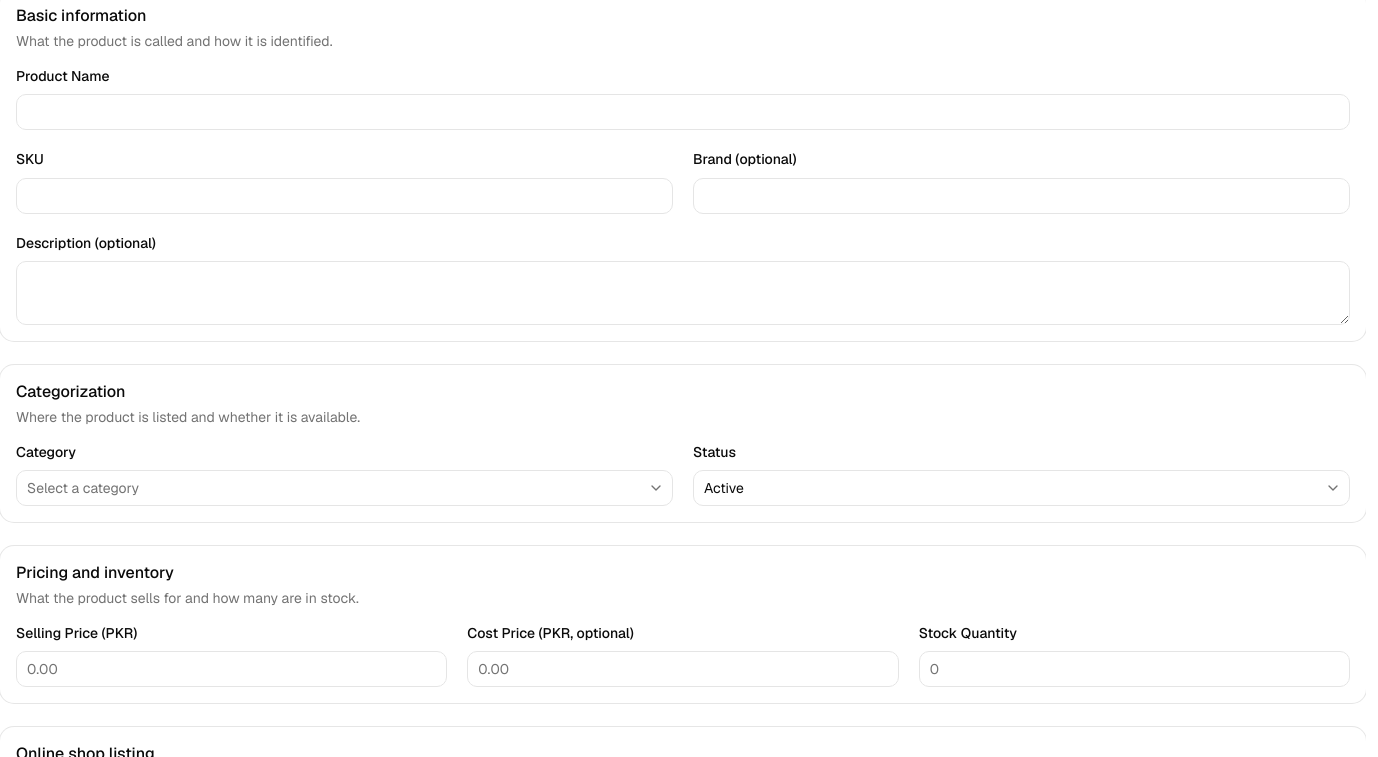
Scenario: ProductForm (server errors) › points a taken SKU out on the SKU field
In the field labelled "Product Name": point(683, 112) [16, 94, 1350, 130], type "  Studio Monitor  "
In the field labelled "SKU": point(344, 196) [16, 178, 673, 214], type "ELC-MON-27"
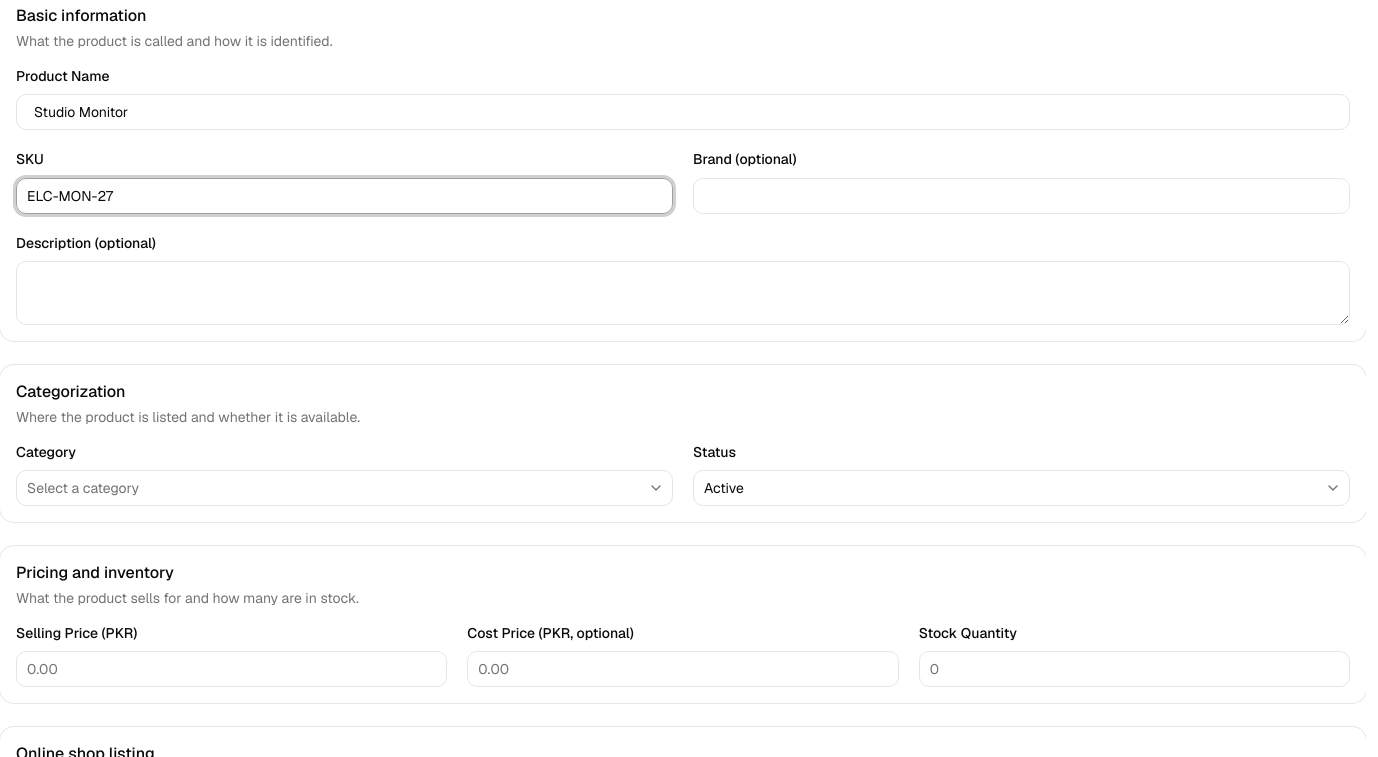
Click the dropdown labelled "category": point(83, 488) [16, 470, 673, 506]
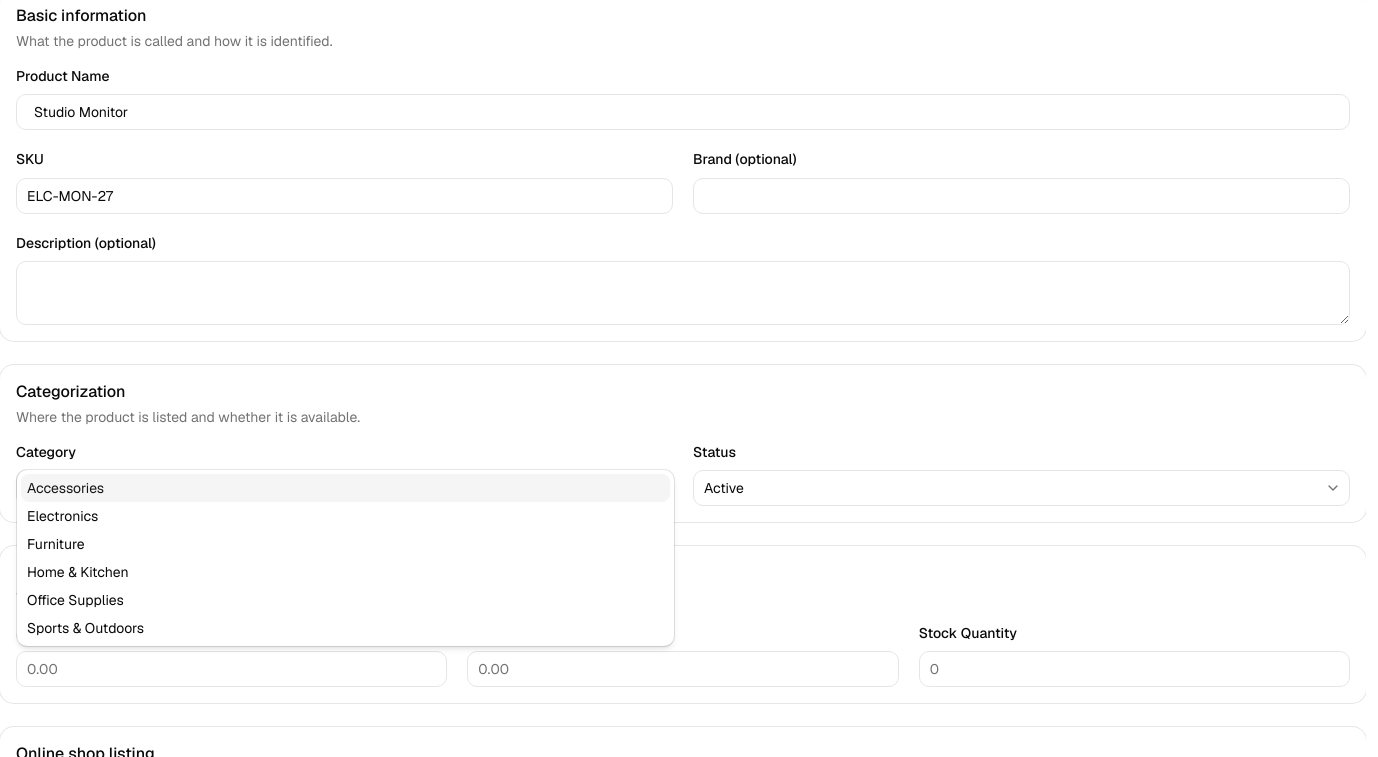
Click the option "Electronics": point(63, 516) [27, 507, 98, 525]
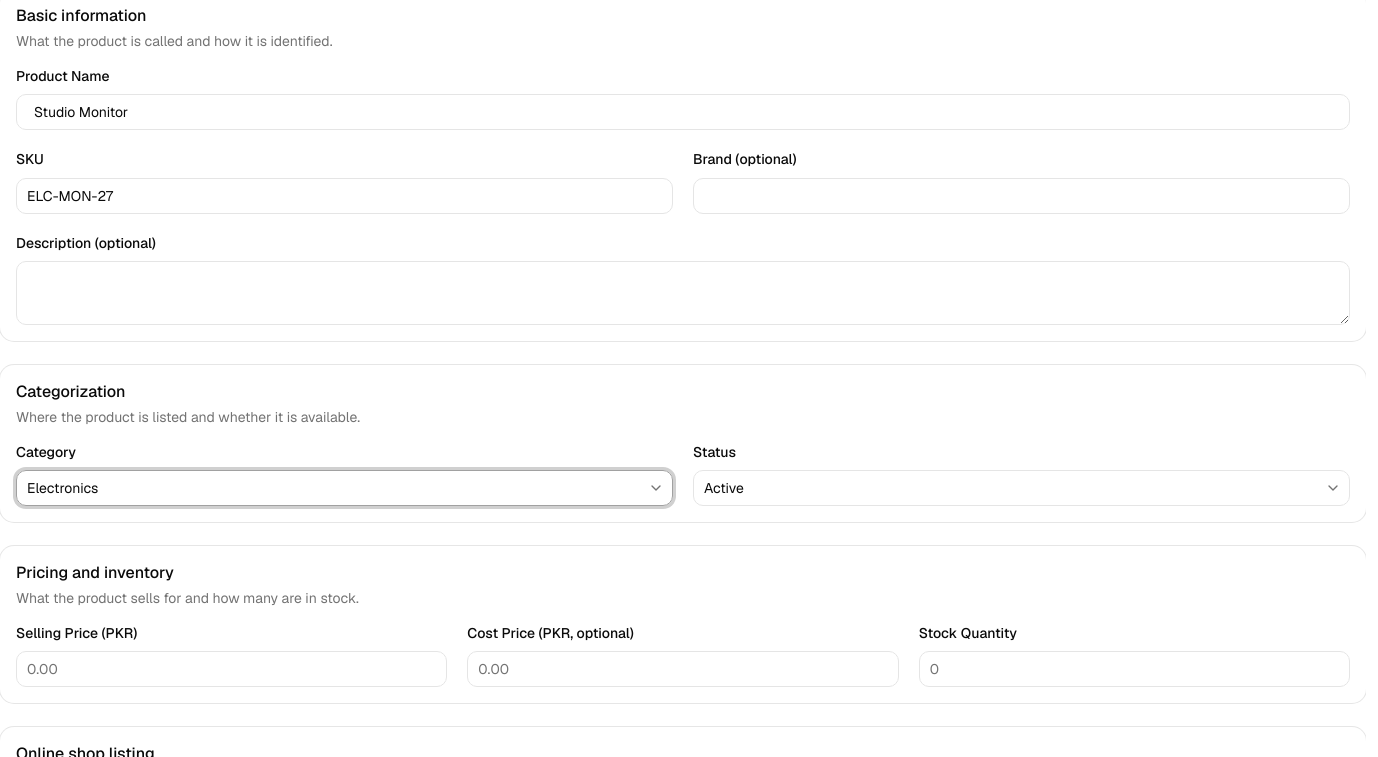
In the field labelled "Selling Price (PKR)": point(232, 669) [16, 651, 447, 687], type "349.99"
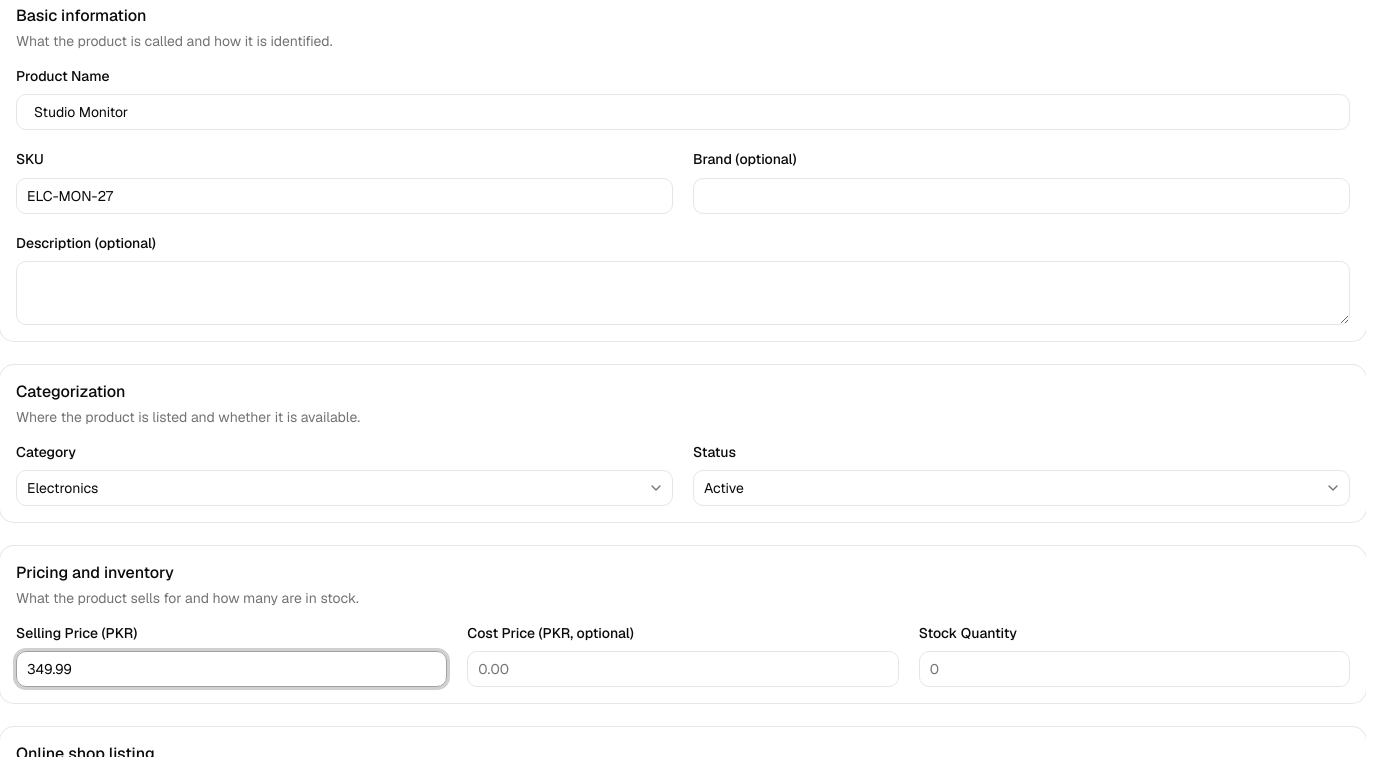
In the field labelled "Stock Quantity": point(1134, 669) [919, 651, 1350, 687], type "12"
(page scrolled)
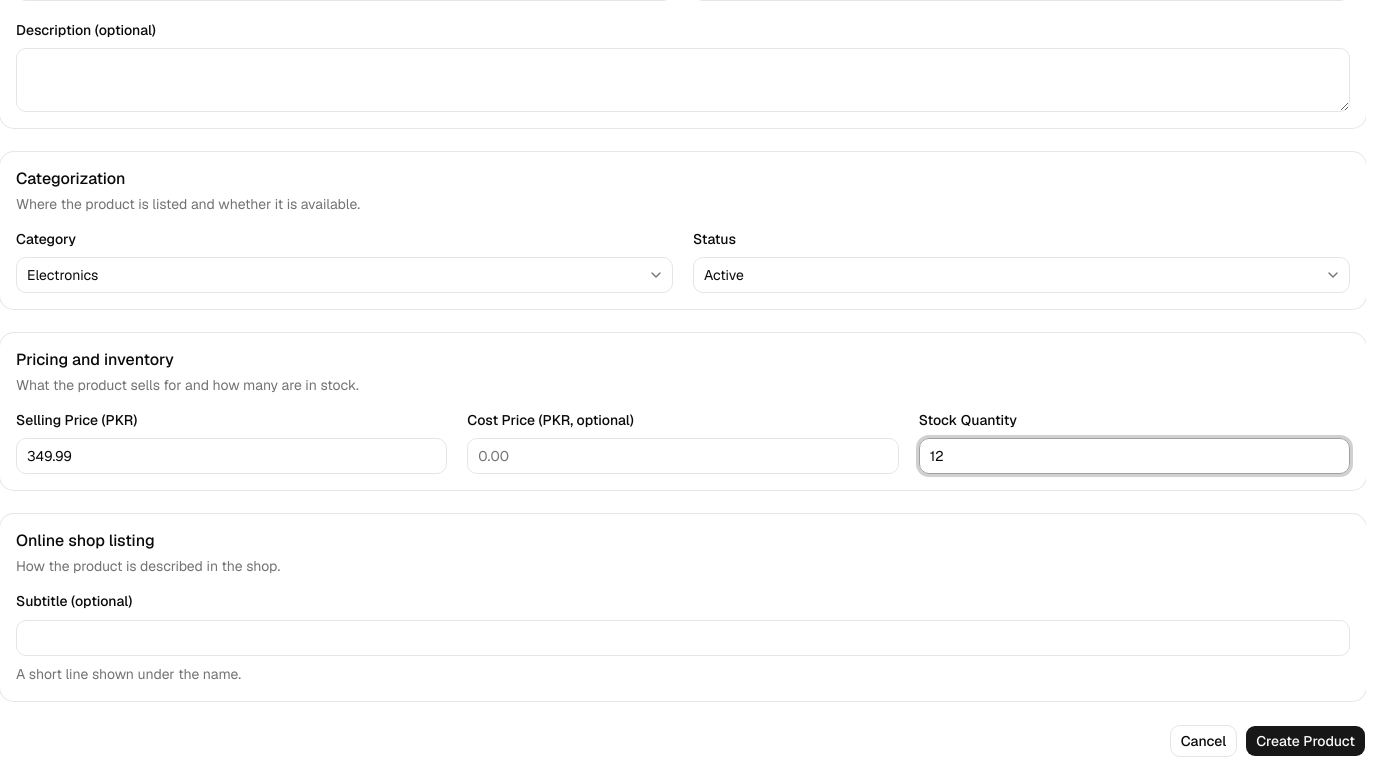
Click the button "Create Product": point(1306, 740) [1245, 724, 1366, 756]
(page scrolled)
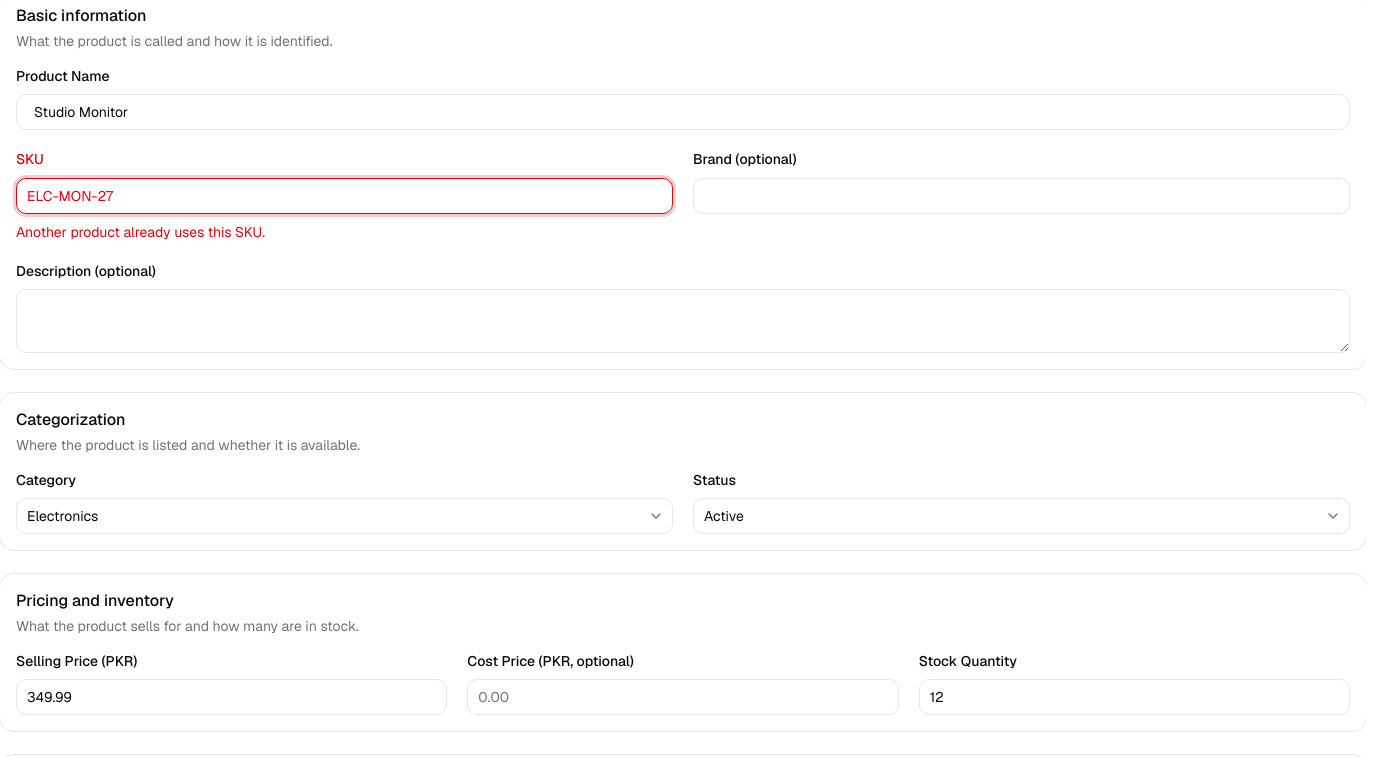
Expected: the number of messages is 1, [16, 222, 265, 240]
